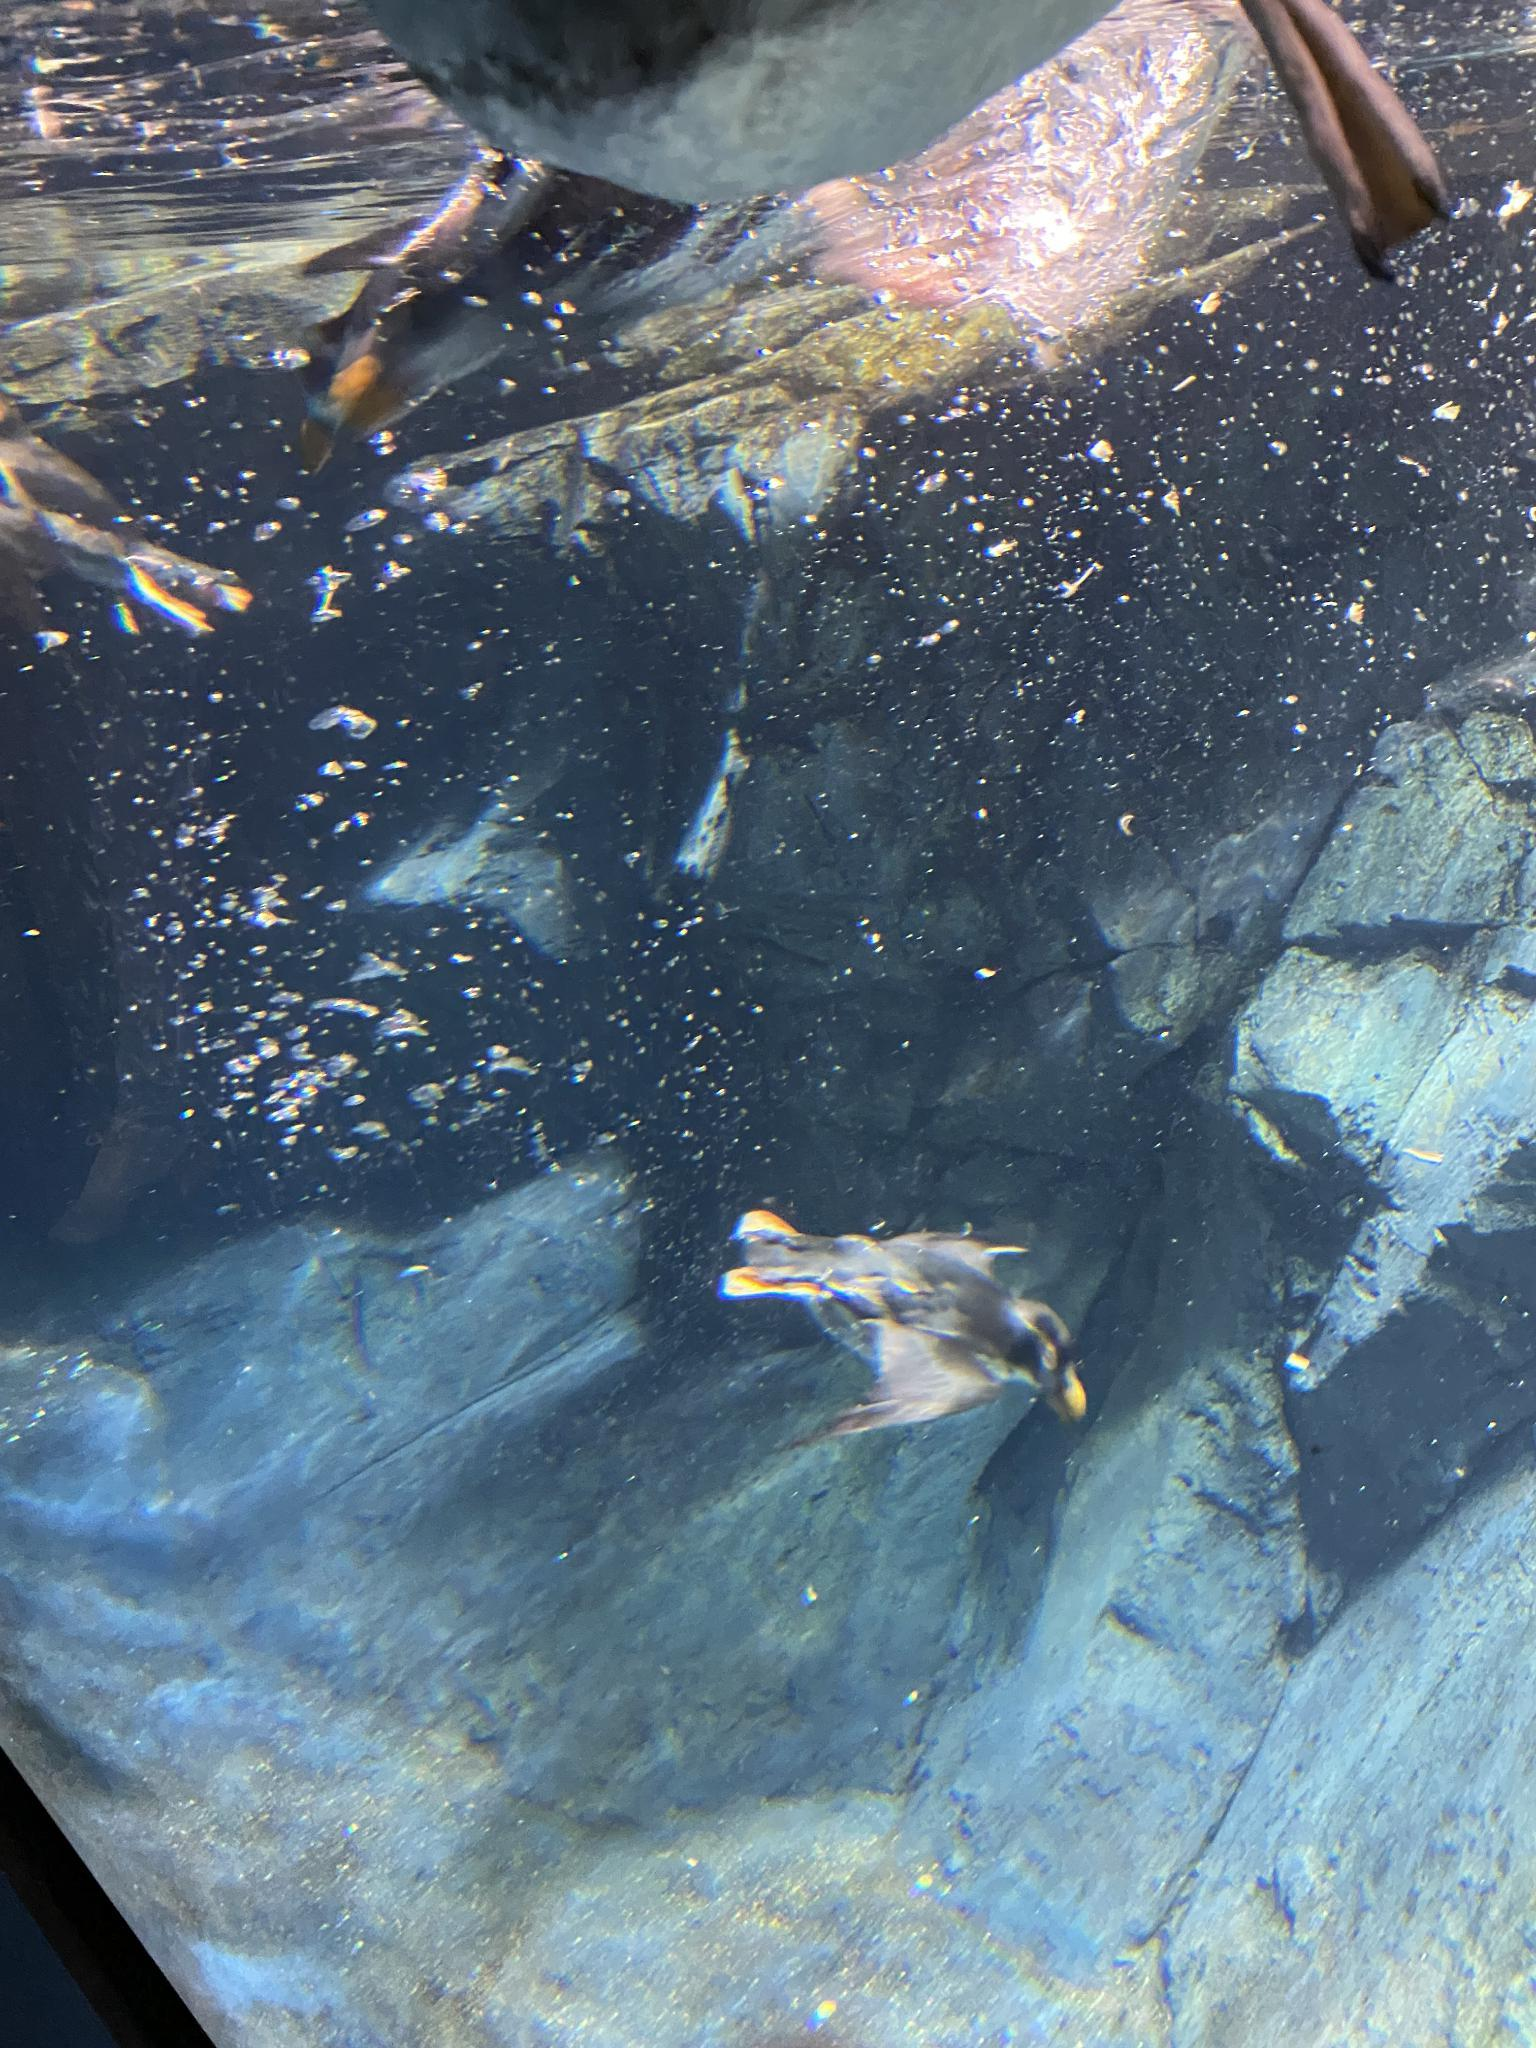puffin: (307, 0, 1457, 460), (724, 1208, 1087, 1443), (0, 393, 247, 645)
